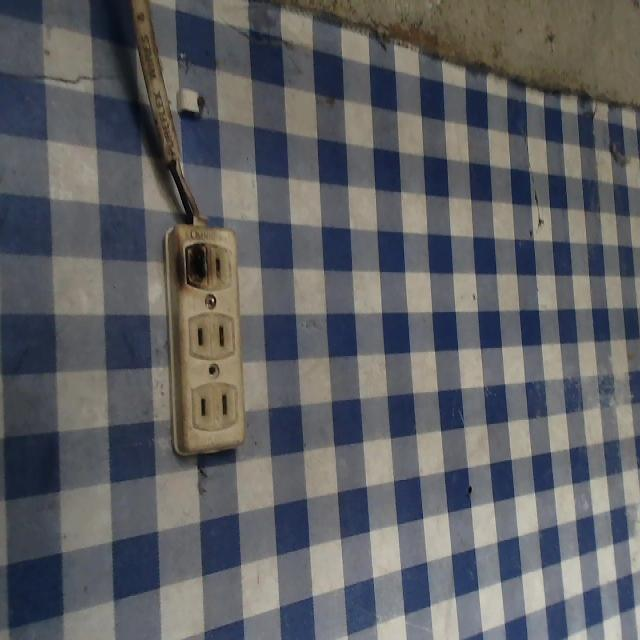-: (180, 235, 211, 296)
